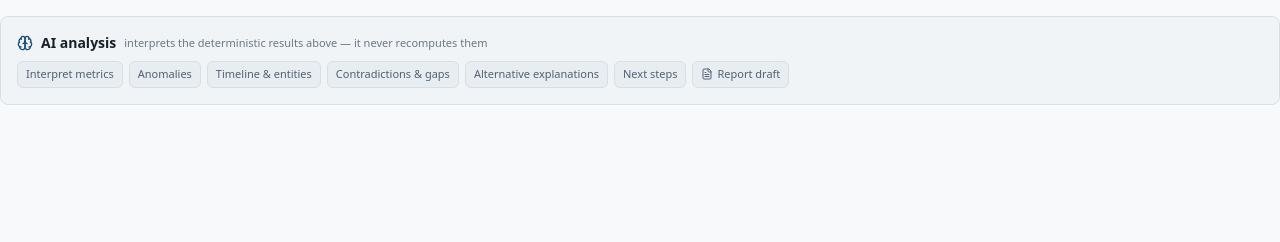
Test: AnalysisPanel › surfaces unverified citations and metric mismatches as warnings
Click the button with test id "analysis-action-interpret".
click(70, 74)  # box [17, 61, 123, 88]
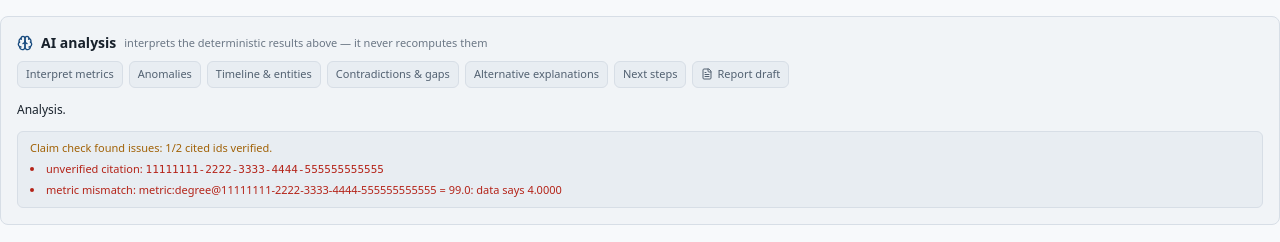
Result: the element with test id "analysis-citation-check" is shown at [17, 131, 1263, 208]
Result: the element with test id "analysis-citation-check" shows "Claim check found issues: 1/2 cited ids verified" at [30, 140, 272, 155]
Result: the element with test id "analysis-citation-check" shows "11111111-2222-3333-4444-555555555555" at [146, 162, 384, 176]
